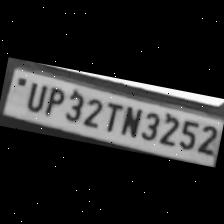2: (80, 92, 106, 129), (194, 119, 220, 156), (155, 110, 181, 146)
3: (60, 86, 86, 122), (137, 106, 162, 142)
5: (174, 115, 200, 151)
N: (118, 102, 144, 138)
P: (42, 82, 68, 118)
T: (99, 98, 122, 134)
U: (22, 78, 48, 112)
